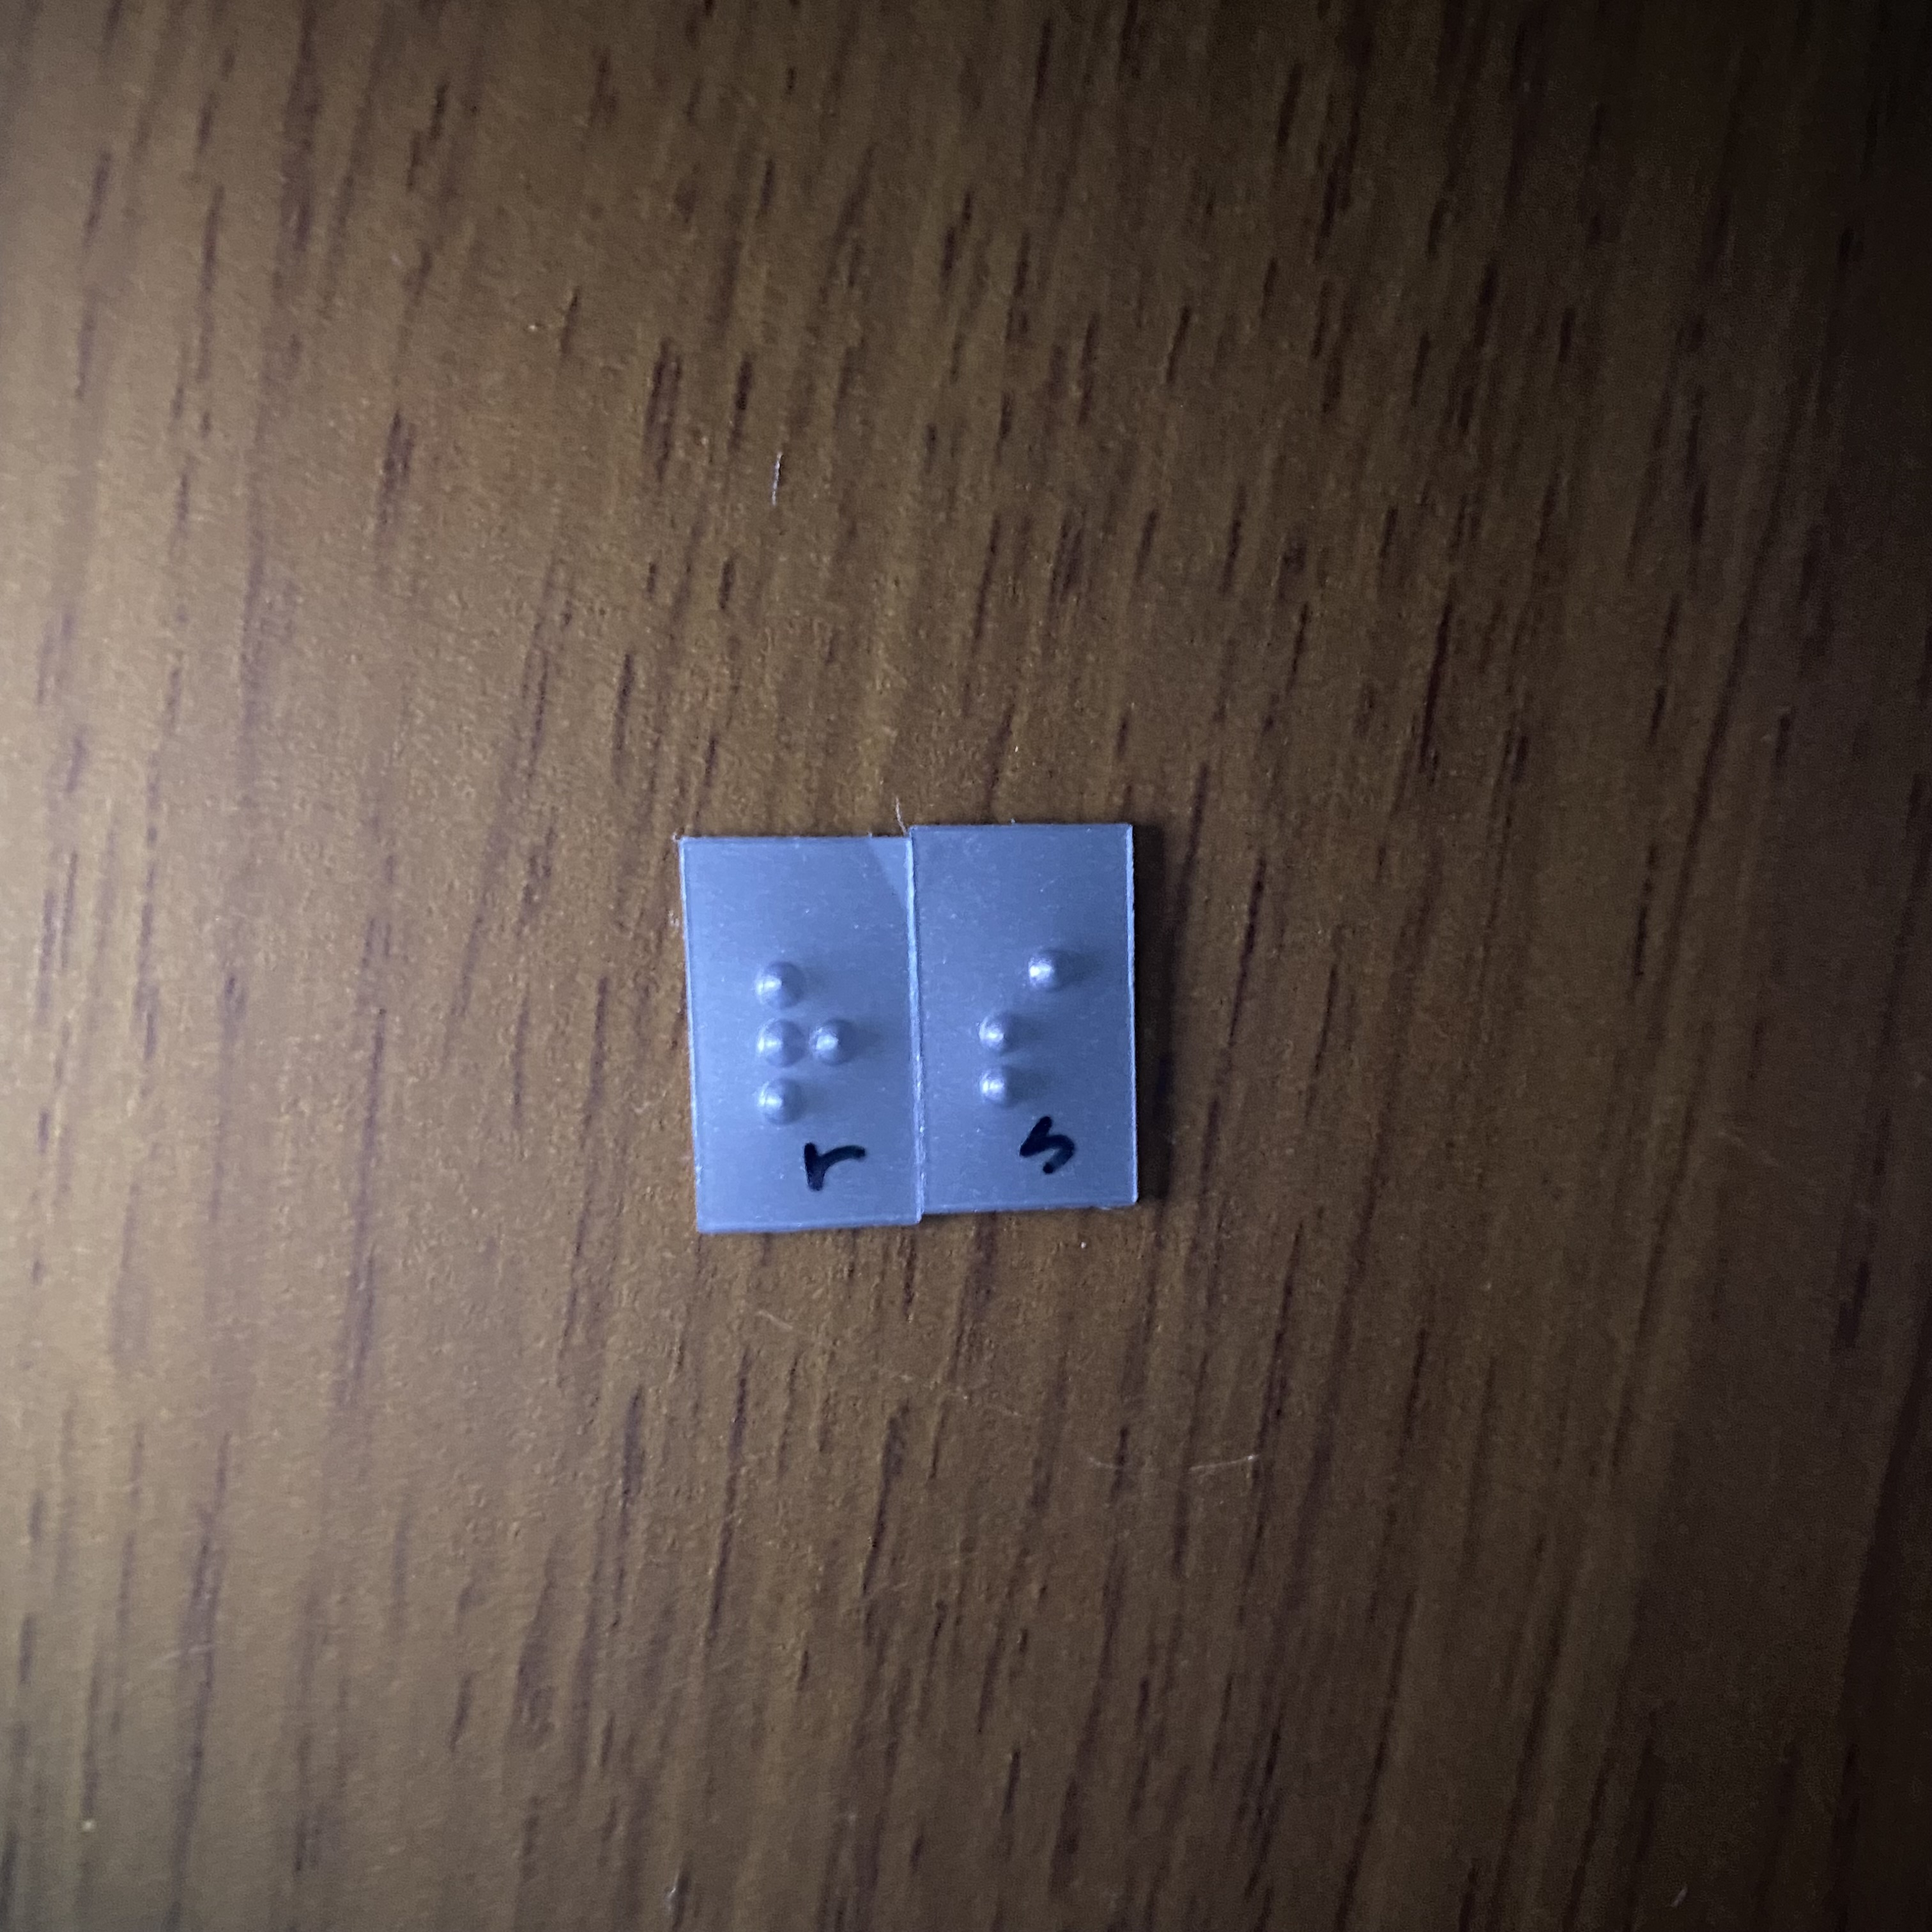r: (743, 940, 880, 1137)
s: (954, 934, 1113, 1132)
